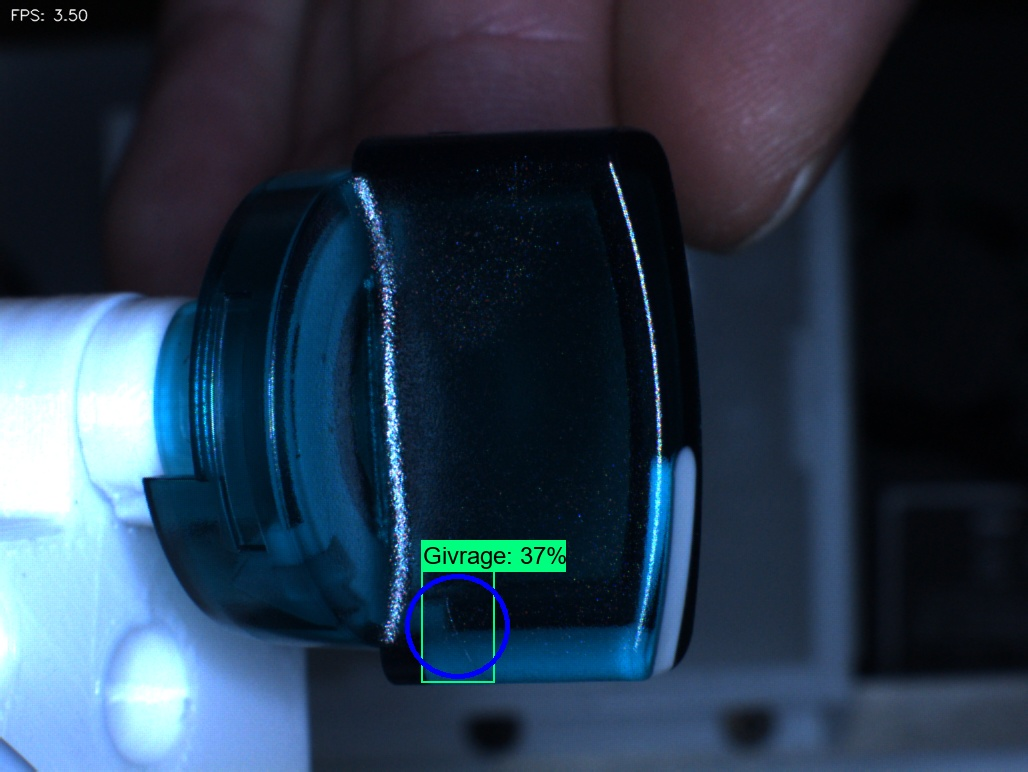PointNoir: (288, 315, 365, 396)
